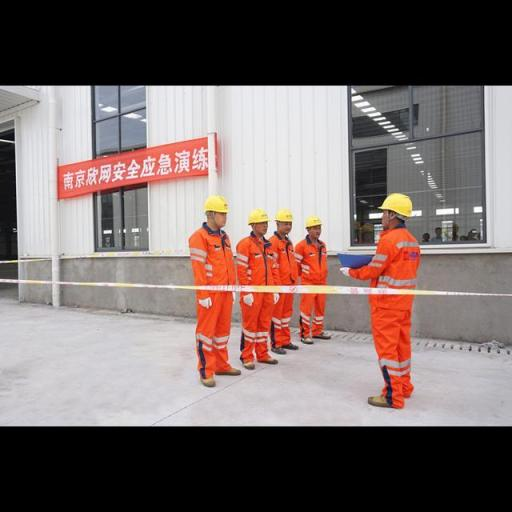Person: (336, 196, 437, 414), (170, 182, 252, 398), (266, 200, 324, 386), (224, 202, 282, 386), (284, 204, 337, 363)
boots: (362, 388, 402, 414), (214, 355, 248, 382), (254, 350, 284, 372), (306, 325, 334, 348), (273, 334, 305, 354), (290, 325, 317, 348), (270, 336, 290, 364), (200, 366, 220, 388), (242, 355, 258, 372)
gloves: (336, 259, 360, 284), (240, 285, 258, 311), (194, 292, 215, 314), (264, 287, 286, 306), (224, 286, 240, 310)
helmet: (378, 184, 421, 226), (198, 190, 230, 218), (242, 202, 273, 230), (266, 202, 299, 227), (301, 208, 329, 235)
vest: (346, 224, 431, 410), (184, 222, 248, 380), (230, 228, 284, 368), (260, 224, 304, 354), (290, 234, 337, 338)
